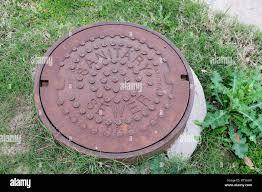open drainage-not overflowing-: (38, 23, 187, 156)
